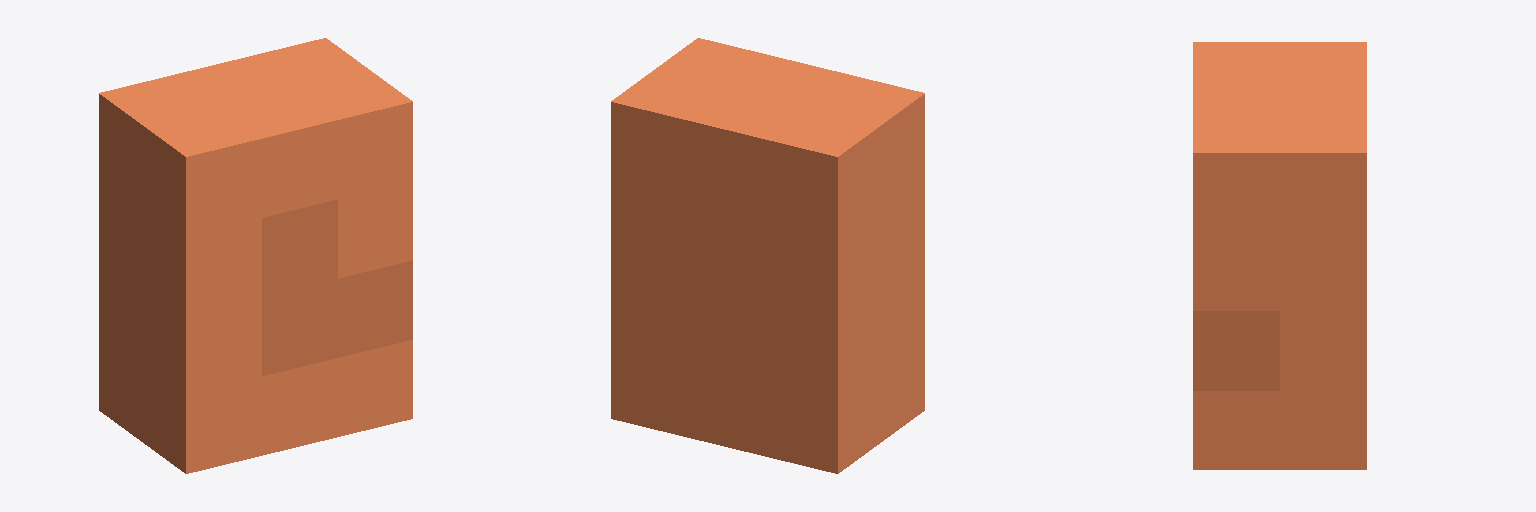
The picture shows the model from 3 angles: view 1: azimuth 30°, elevation 25°; view 2: azimuth 150°, elevation 25°; view 3: azimuth 270°, elevation 25°; orthographic projection.
Parts seen in each view (by area): view 1: object 1; view 2: object 1; view 3: object 1.
Boxes of the visible parts, box(x1,y1,x2,y2) form: object 1: box(99, 38, 412, 473); object 1: box(611, 38, 924, 473); object 1: box(1193, 42, 1366, 469).
Bounding box in the file's own units: 0.3 × 0.4 × 0.2.
1 materials, 1 textured.